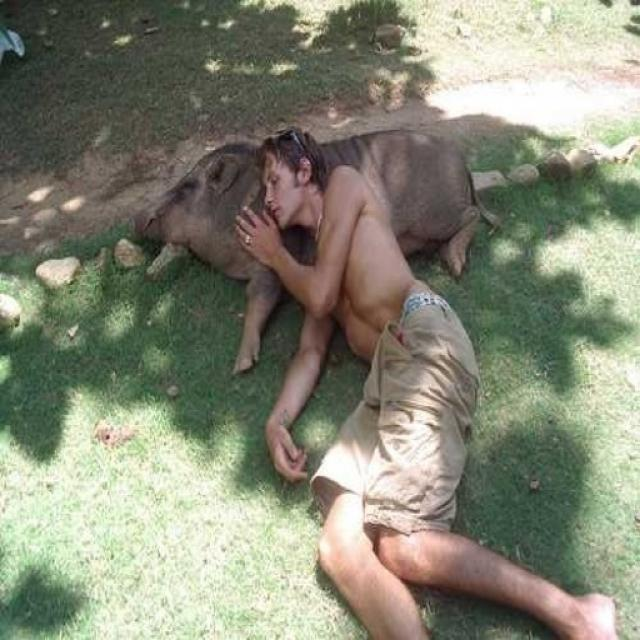pig: (131, 137, 261, 259)
